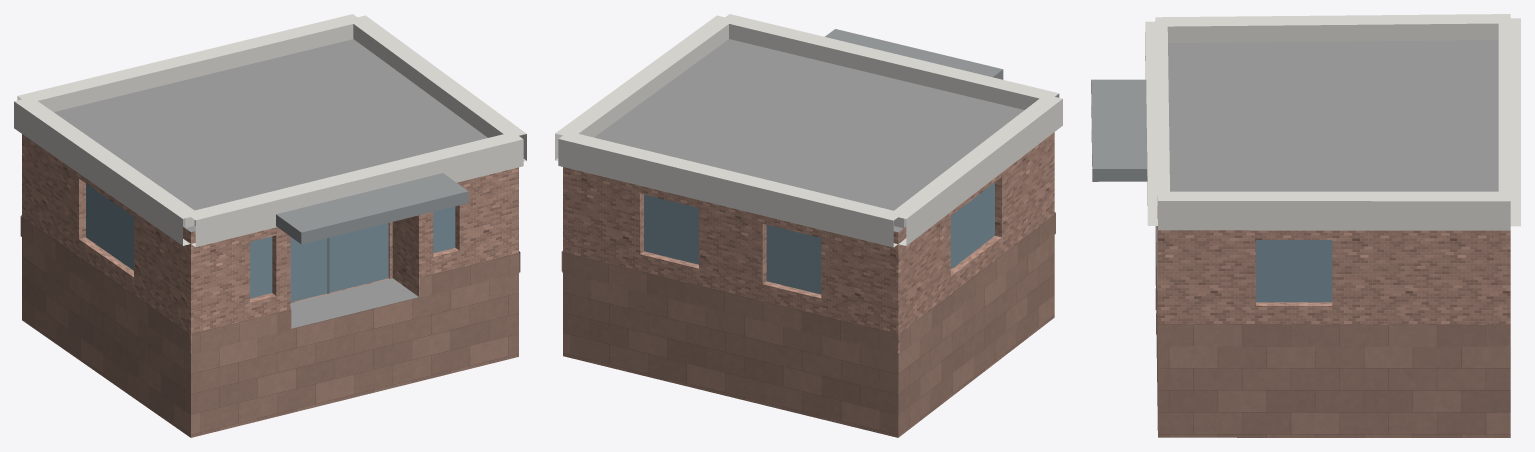
3 renders of one model, left to right at view 1: azimuth 30°, elevation 25°; view 2: azimuth 150°, elevation 25°; view 3: azimuth 270°, elevation 25°, orthographic. The views are drawn at different scales.
Visible parts, largest first — view 1: westDormSupportW4__base, westDormSupportW4__roof, westDormSupportW4__trim, westDormSupportW4__wall, westDormSupportW4__glass, westDormSupportW4__canopy; view 2: westDormSupportW4__base, westDormSupportW4__roof, westDormSupportW4__wall, westDormSupportW4__trim, westDormSupportW4__glass, westDormSupportW4__canopy; view 3: westDormSupportW4__roof, westDormSupportW4__base, westDormSupportW4__trim, westDormSupportW4__wall, westDormSupportW4__canopy, westDormSupportW4__glass.
Part boxes in pixels (x1,y1,x2,y2): westDormSupportW4__base: (20,215,520,437); westDormSupportW4__roof: (54,39,487,328); westDormSupportW4__trim: (14,14,526,247); westDormSupportW4__wall: (22,134,518,353); westDormSupportW4__glass: (86,183,455,302); westDormSupportW4__canopy: (276,173,468,244); westDormSupportW4__base: (561,212,1055,437); westDormSupportW4__roof: (594,39,1024,232); westDormSupportW4__wall: (563,132,1054,353); westDormSupportW4__trim: (555,14,1062,247); westDormSupportW4__glass: (644,182,994,294); westDormSupportW4__canopy: (825,29,1003,79); westDormSupportW4__roof: (1156,40,1498,313); westDormSupportW4__base: (1155,226,1510,437); westDormSupportW4__trim: (1145,14,1520,230); westDormSupportW4__wall: (1157,206,1510,337); westDormSupportW4__canopy: (1091,79,1147,181); westDormSupportW4__glass: (1256,240,1332,302).
Bounding box in the file's own units: 10.91 × 6.55 × 10.58.
Materials: 8 (2 with a texture image).
